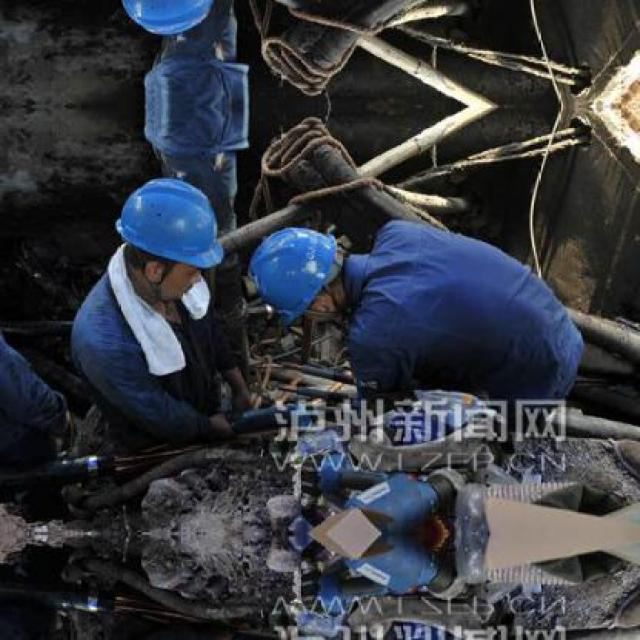helmet: (107, 167, 225, 303), (243, 220, 357, 327), (106, 0, 226, 46)
